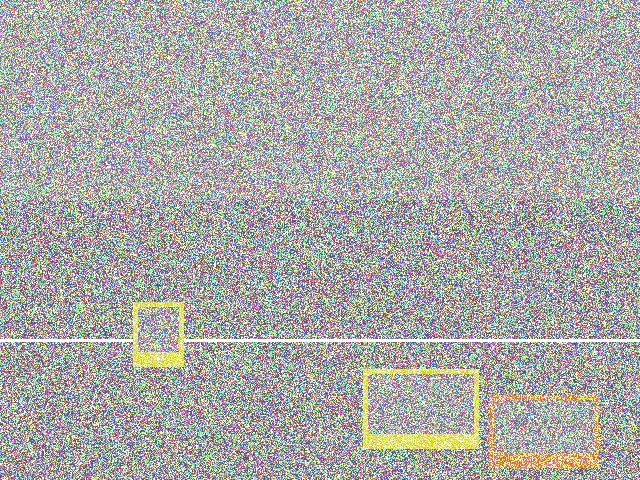truck: (445, 302, 627, 410), (99, 368, 264, 421), (228, 168, 318, 250)
